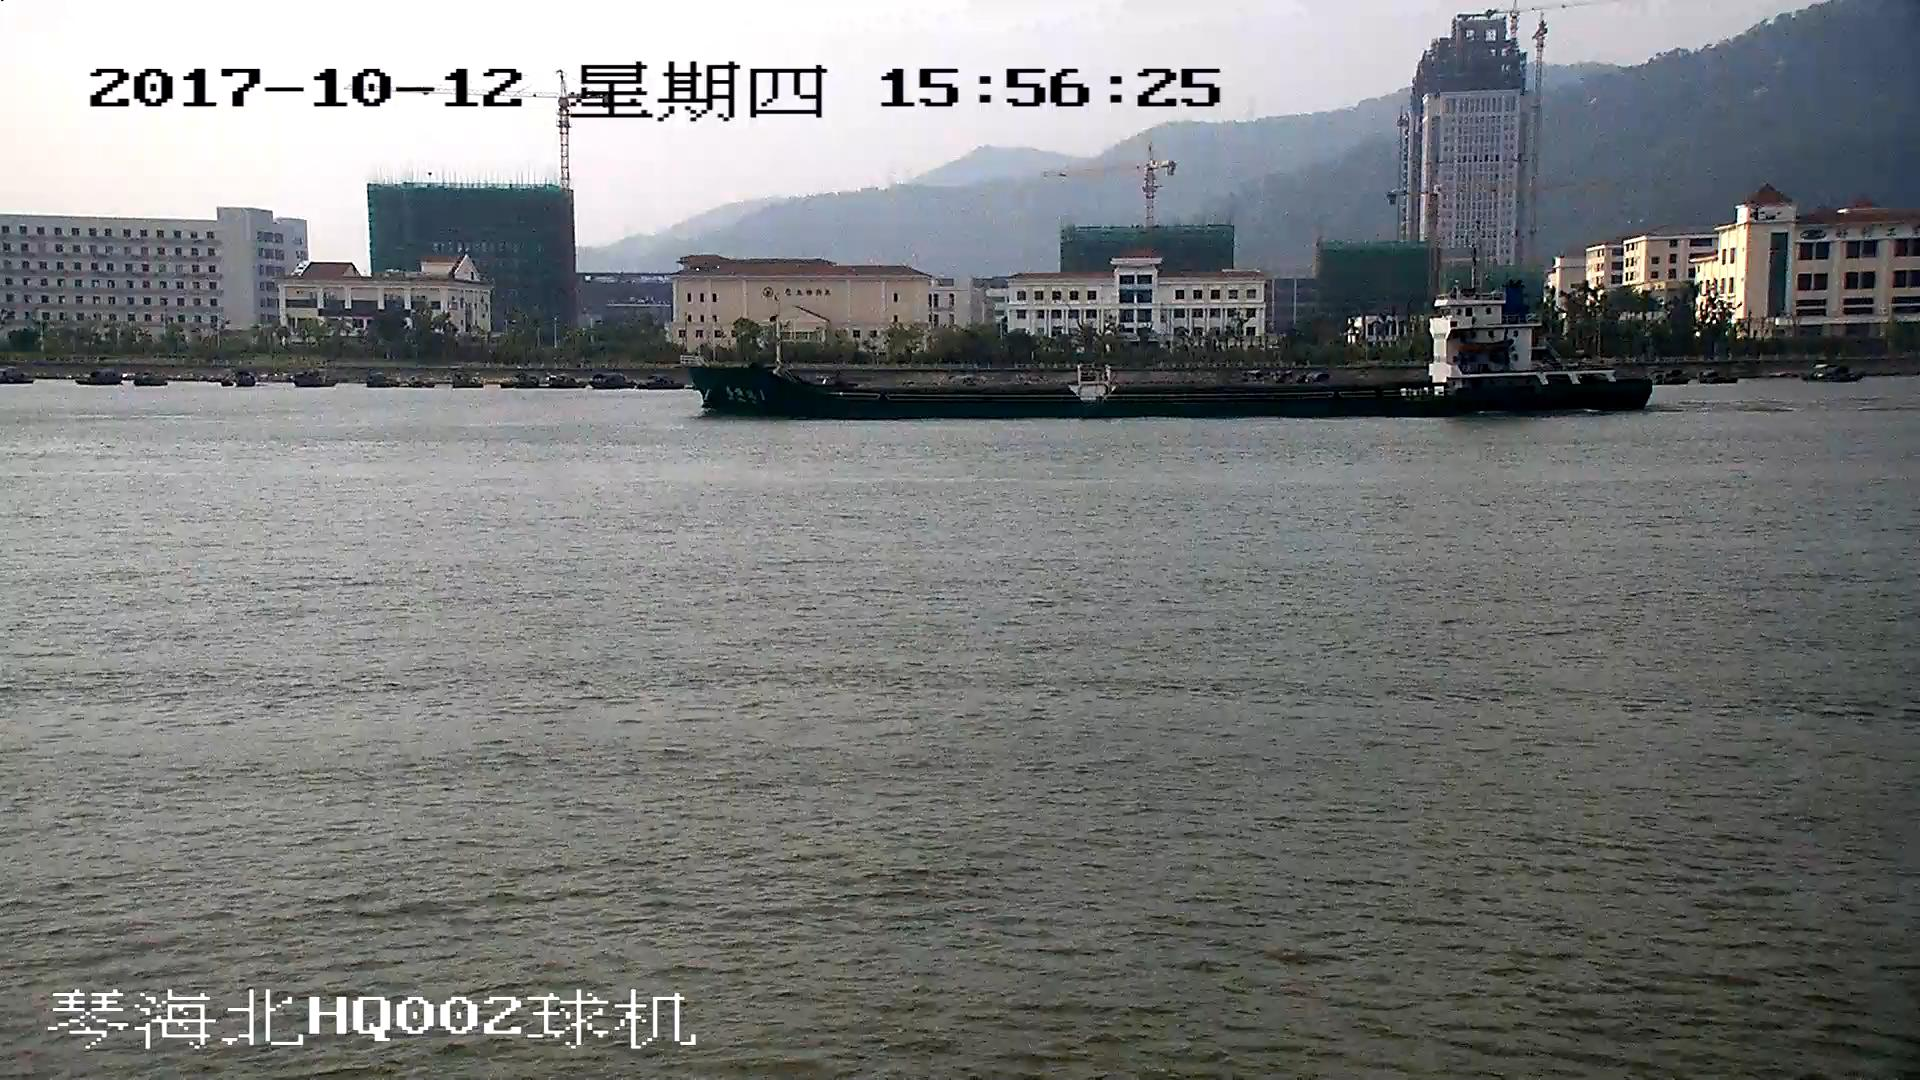general cargo ship: (688, 291, 1653, 417)
